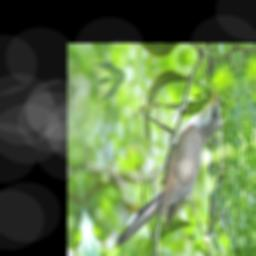Cuckoo: (100, 85, 235, 247)
